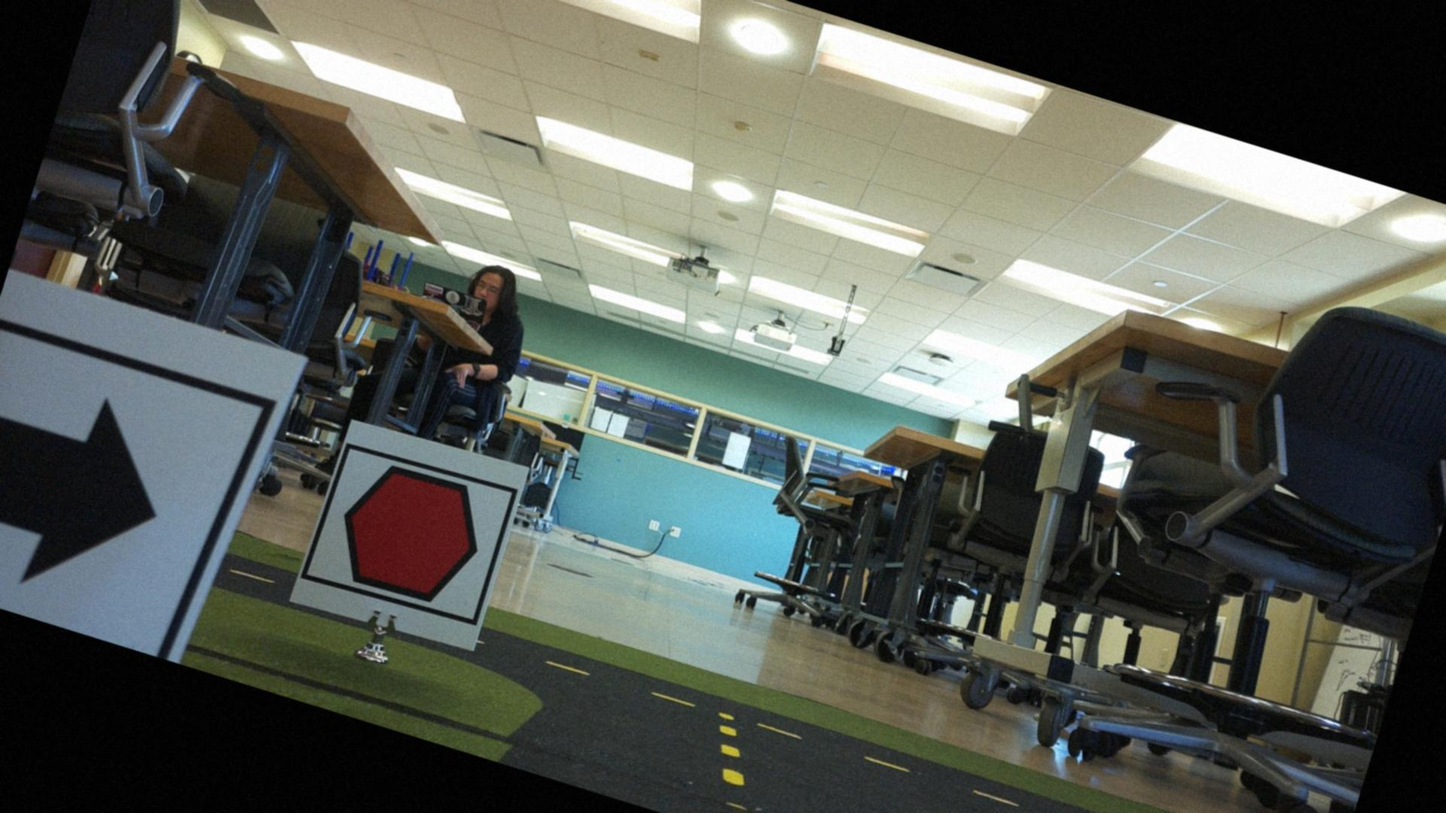stop: (305, 446, 514, 629)
turnright: (0, 325, 241, 656)
yellowline: (704, 720, 758, 789)
